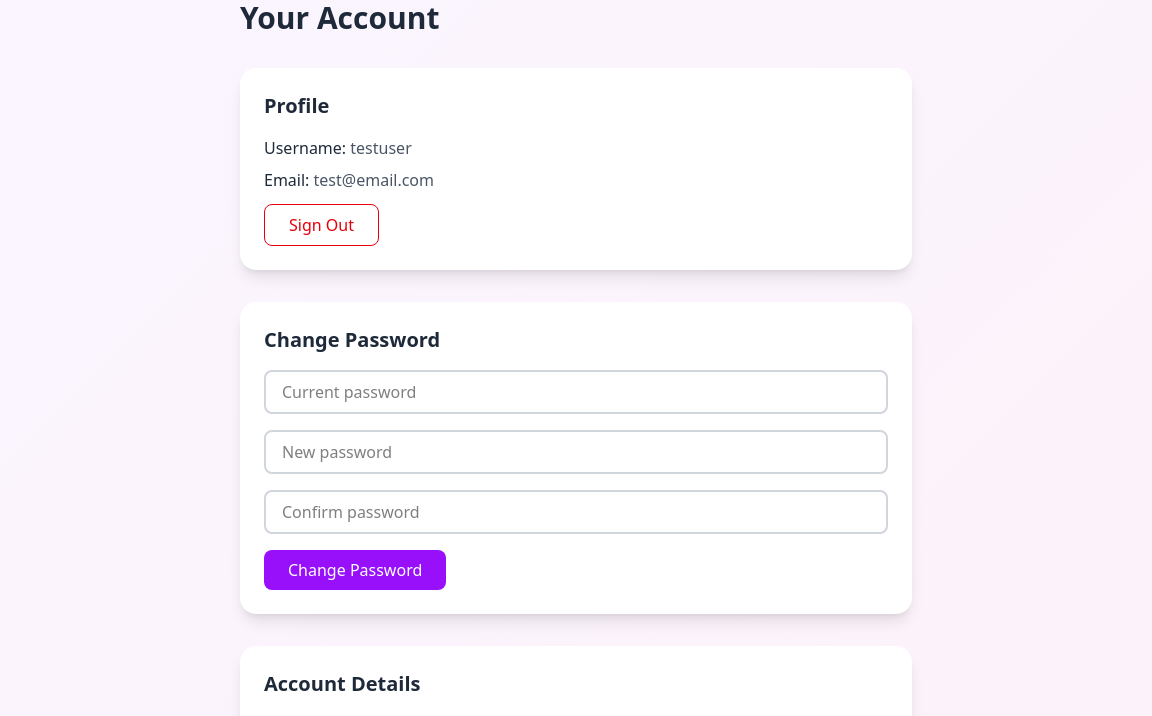
it: DashboardPage › logs out and navigates to the home page
The width and height of the screenshot is (1152, 716).
Click the button "Sign Out": [322, 225] box [264,204,379,246]
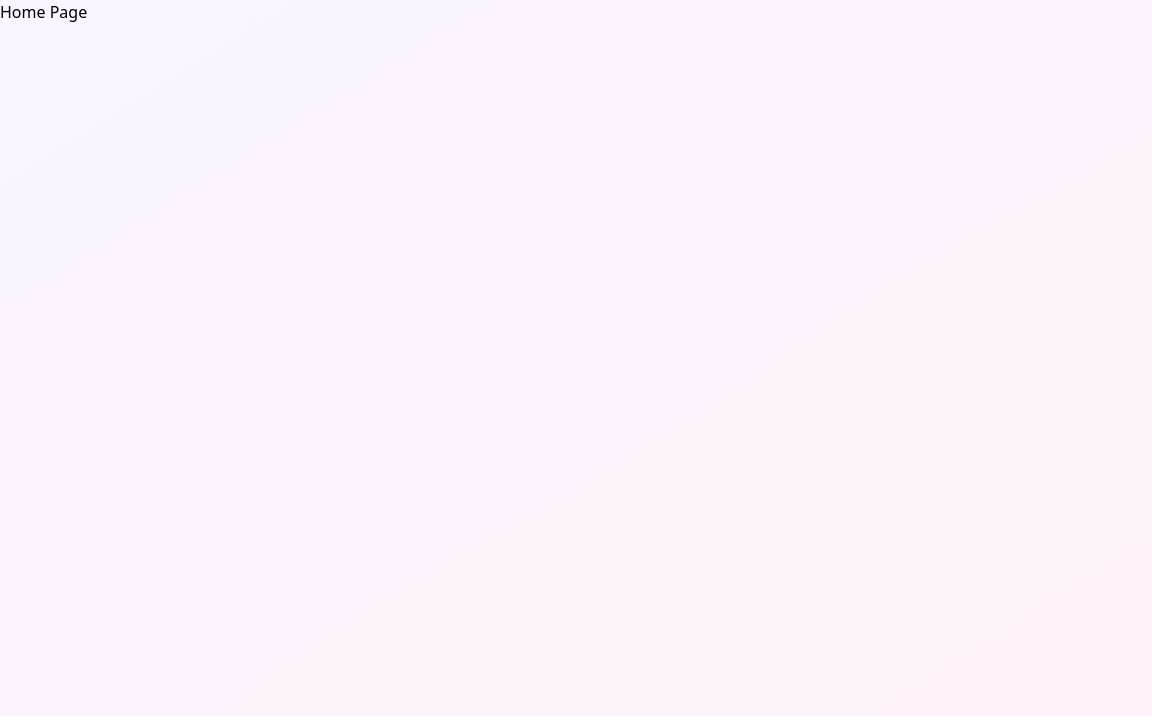
Check: the text "Home Page" is shown, box [0,1,87,23]
